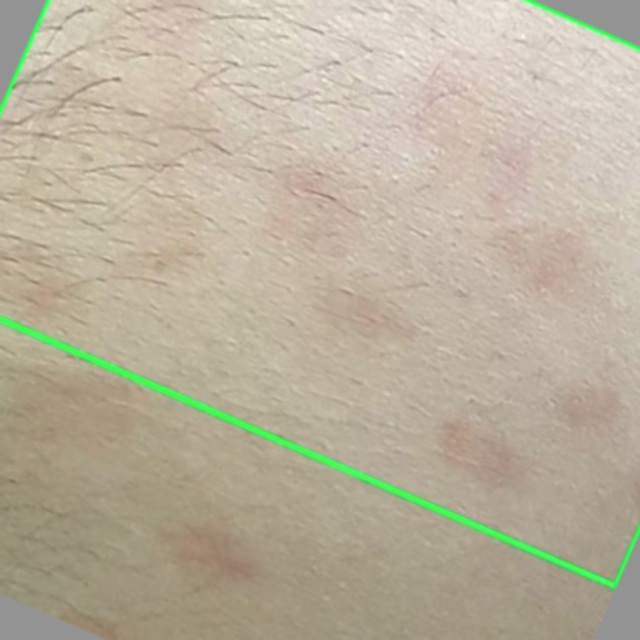Tinea Corporis: (0, 0, 639, 586)
